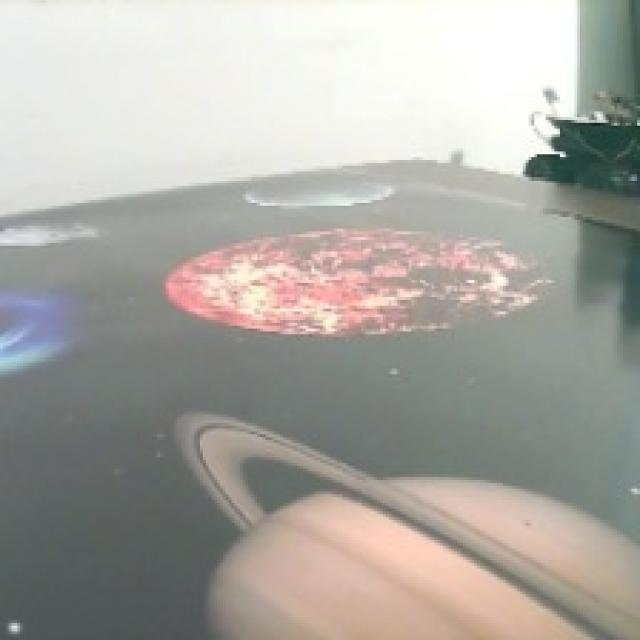Asteroid: (0, 217, 94, 251)
Black Hole: (0, 282, 71, 374)
Earth: (244, 175, 394, 208)
Saturn: (171, 407, 640, 640)
Sun: (164, 225, 555, 339)
